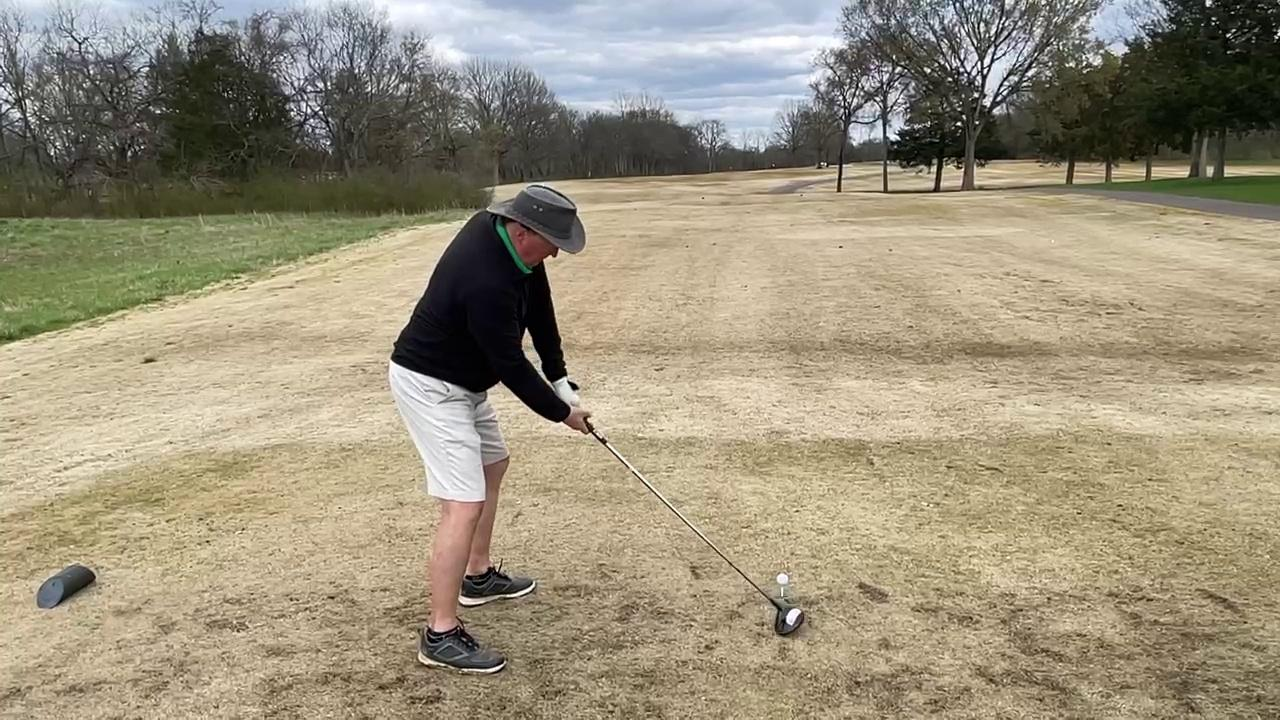ClubHead: (769, 598, 811, 640)
GolfBall: (775, 571, 791, 588)
